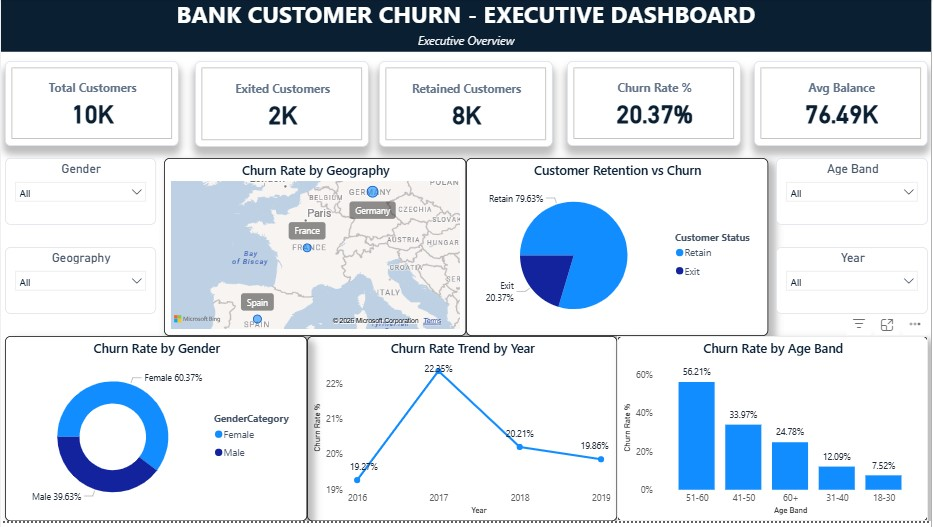

What the dashboard file says about the page in this screenshot:
{"tool":"powerbi","page":{"name":"Dashboard","canvas":[1280,720],"ordinal":4},"visuals":[{"type":"textbox","title":"BANK CUSTOMER CHURN - EXECUTIVE DASHBOARD","box":[0,0,1280,74.4],"z":0},{"type":"cardVisual","fields":{"Data":["_Measures.Exited Customers"]},"box":[267,86.7,239.5,118.4],"z":1000},{"type":"cardVisual","fields":{"Data":["_Measures.Total Customers"]},"box":[5.5,86.7,239.5,117],"z":2000},{"type":"cardVisual","fields":{"Data":["_Measures.Retained Customers"]},"box":[520.3,86.7,239.5,118.4],"z":3000},{"type":"cardVisual","fields":{"Data":["_Measures.Churn Rate %"]},"box":[779,86.7,239.5,117],"z":4000},{"type":"cardVisual","fields":{"Data":["_Measures.Avg Balance"]},"box":[1036.4,86.7,239.5,117],"z":5000},{"type":"map","title":"Churn Rate by Geography","fields":{"Category":["Geography.GeographyLocation"],"Size":["_Measures.Churn Rate %"]},"box":[224.3,220.2,415.7,245],"z":6000},{"type":"pieChart","title":"Customer Retention vs Churn","fields":{"Category":["ExitCustomer.ExitCategory"],"Y":["_Measures.Total Customers"]},"box":[640,220.2,415.7,245],"z":7000},{"type":"lineChart","title":"Churn Rate Trend by Year","fields":{"Category":["DateTable.Year"],"Y":["_Measures.Churn Rate %"]},"box":[421.2,465.2,426.7,254.6],"z":8000},{"type":"donutChart","title":"Churn Rate by Gender","fields":{"Category":["Gender.GenderCategory"],"Y":["_Measures.Churn Rate %"]},"box":[5.5,465.2,415.7,254.6],"z":9000},{"type":"clusteredColumnChart","title":"Churn Rate by Age Band","fields":{"Category":["Bank_Churn.Age Band"],"Y":["_Measures.Churn Rate %"]},"box":[847.8,465.2,428,254.6],"z":10000},{"type":"slicer","title":"Gender","fields":{"Values":["Gender.GenderCategory"]},"box":[5.5,220.2,207.8,92.2],"z":11000},{"type":"slicer","title":"Age Band","fields":{"Values":["Customer_Master.Age_Band"]},"box":[1066.7,220.2,209.2,92.2],"z":12000},{"type":"slicer","title":"Geography","fields":{"Values":["Customer_Master.Geography"]},"box":[5.5,342.7,207.8,92.2],"z":13000},{"type":"slicer","title":"Year","fields":{"Values":["DateTable.Year"]},"box":[1066.7,342.7,209.2,92.2],"z":14000}]}

Visuals, with their boxes in screenshot pixels (x1, y1, x2, y2), scaled from the page's 1280x720 canvas onto the 933x527 screenshot:
"BANK CUSTOMER CHURN - EXECUTIVE DASHBOARD" textbox: (x1=0, y1=0, x2=932, y2=54)
cardVisual - _Measures.Exited Customers: (x1=195, y1=63, x2=369, y2=150)
cardVisual - _Measures.Total Customers: (x1=4, y1=63, x2=179, y2=149)
cardVisual - _Measures.Retained Customers: (x1=379, y1=63, x2=554, y2=150)
cardVisual - _Measures.Churn Rate %: (x1=568, y1=63, x2=742, y2=149)
cardVisual - _Measures.Avg Balance: (x1=755, y1=63, x2=930, y2=149)
"Churn Rate by Geography" map: (x1=163, y1=161, x2=466, y2=341)
"Customer Retention vs Churn" pieChart: (x1=466, y1=161, x2=770, y2=341)
"Churn Rate Trend by Year" lineChart: (x1=307, y1=341, x2=618, y2=526)
"Churn Rate by Gender" donutChart: (x1=4, y1=341, x2=307, y2=526)
"Churn Rate by Age Band" clusteredColumnChart: (x1=618, y1=341, x2=930, y2=526)
"Gender" slicer: (x1=4, y1=161, x2=155, y2=229)
"Age Band" slicer: (x1=778, y1=161, x2=930, y2=229)
"Geography" slicer: (x1=4, y1=251, x2=155, y2=318)
"Year" slicer: (x1=778, y1=251, x2=930, y2=318)
